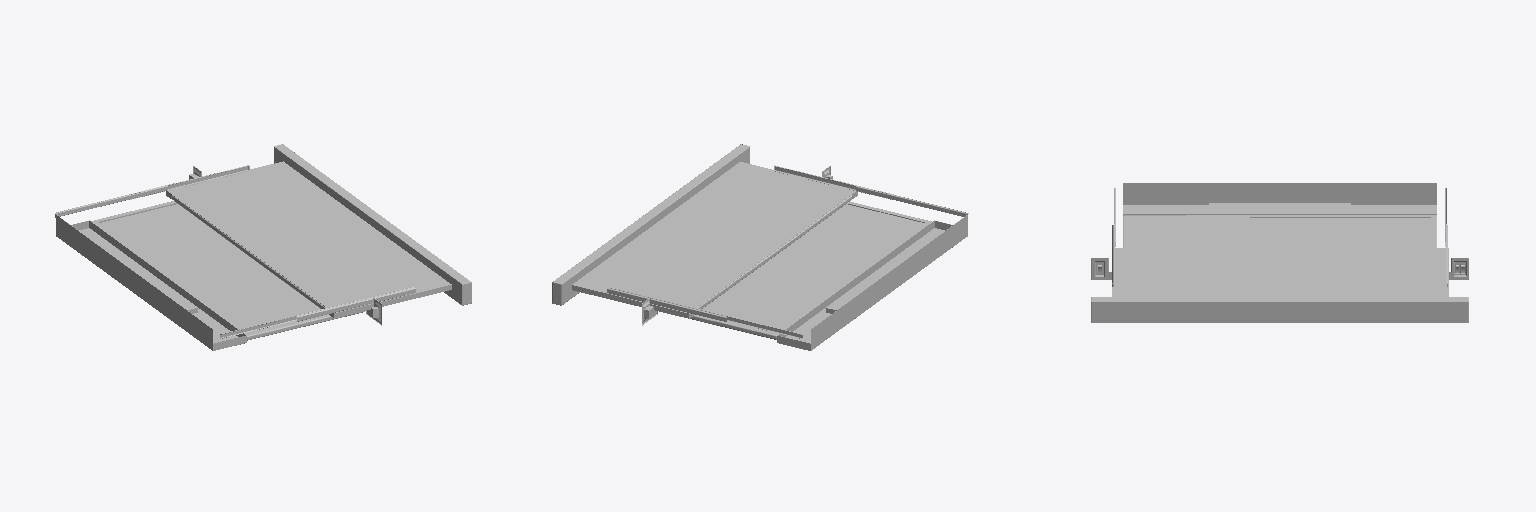
The model's file is Vent Kitchen Extractor Europlast H500 Hood N151121.obj.
3 views of the same model, side by side, from view 1: azimuth 30°, elevation 25°; view 2: azimuth 150°, elevation 25°; view 3: azimuth 270°, elevation 25° (orthographic).
Visible parts, largest first — view 1: base_panel_01, grid_02, base_02, base_panel, grid_frame_02, guides_left, led_base, grid_frame_01, guides_base_right, guides_right; view 2: base_panel_01, grid_02, base_02, base_panel, grid_frame_02, guides_right, led_base, grid_frame_01, guides_left_base, guides_left; view 3: base_panel_01, base_panel, grid_02, base_02, led_base, grid_frame_02.
Part boxes in pixels (x1,y1,x2,y2): base_panel_01: (166, 161, 451, 318); grid_02: (100, 204, 320, 332); base_02: (56, 215, 246, 350); base_panel: (274, 144, 470, 304); grid_frame_02: (91, 201, 364, 340); guides_left: (296, 287, 415, 321); led_base: (117, 256, 197, 313); grid_frame_01: (171, 195, 325, 308); guides_base_right: (55, 186, 167, 217); guides_right: (130, 165, 249, 199); base_panel_01: (572, 162, 857, 318); grid_02: (702, 204, 924, 332); base_02: (777, 215, 967, 350); base_panel: (553, 144, 749, 304); grid_frame_02: (679, 202, 931, 339); guides_right: (607, 287, 727, 321); led_base: (826, 256, 905, 313); grid_frame_01: (697, 195, 852, 308); guides_left_base: (856, 186, 968, 216); guides_left: (774, 165, 893, 199); base_panel_01: (1112, 248, 1448, 296); base_panel: (1092, 297, 1467, 322); grid_02: (1129, 218, 1430, 247); base_02: (1123, 183, 1436, 215); led_base: (1209, 203, 1350, 213); grid_frame_02: (1123, 215, 1436, 247).
Bounding box in the file's own units: 4455 × 474 × 6003.